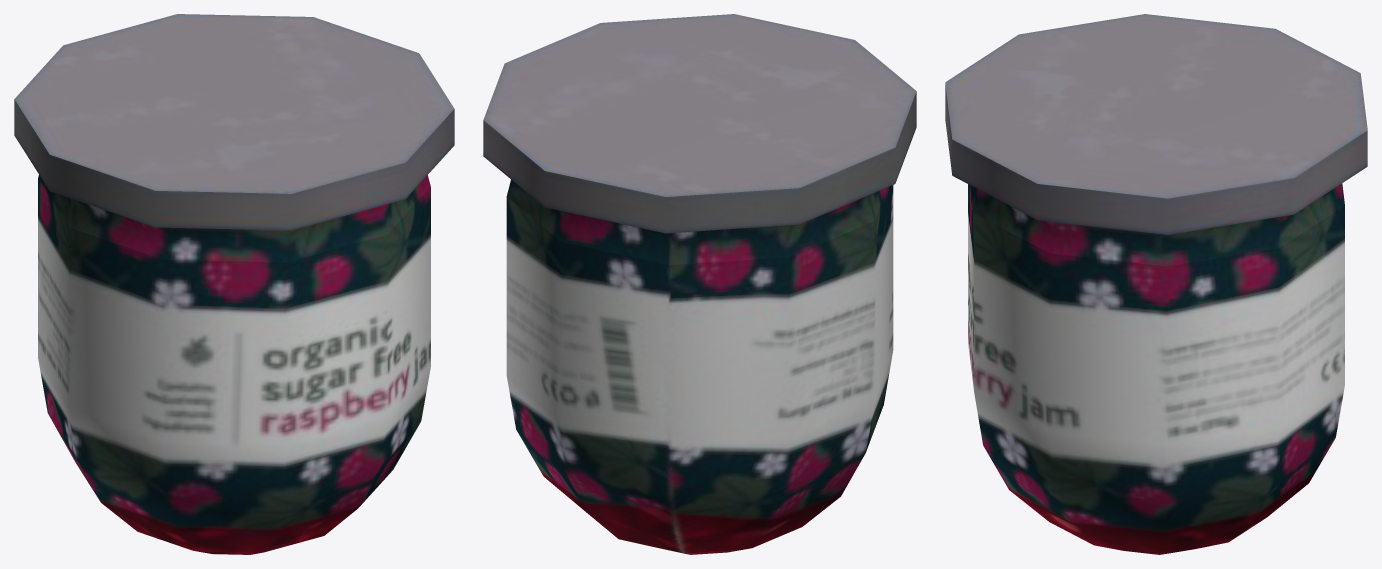
The model's file is jam.glb.
3 renders of one model, left to right at view 1: azimuth 30°, elevation 25°; view 2: azimuth 150°, elevation 25°; view 3: azimuth 270°, elevation 25°, orthographic.
Parts seen in each view (by area): view 1: Jam; view 2: Jam; view 3: Jam.
Part boxes in pixels (x1,y1,x2,y2): Jam: (14, 14, 454, 554); Jam: (483, 14, 916, 554); Jam: (945, 14, 1367, 554).
Bounding box in the file's own units: 0.1185 × 0.1294 × 0.1146.
Materials: 1 (1 with a texture image).
